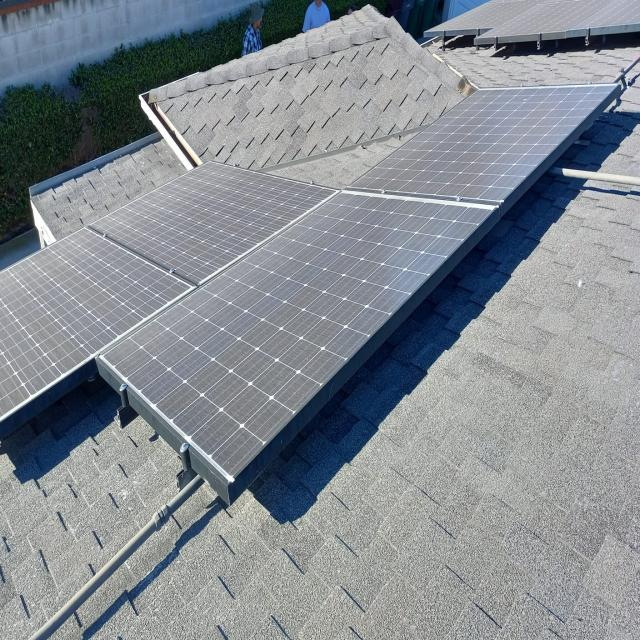dust-solar-panel: (0, 87, 617, 487)
